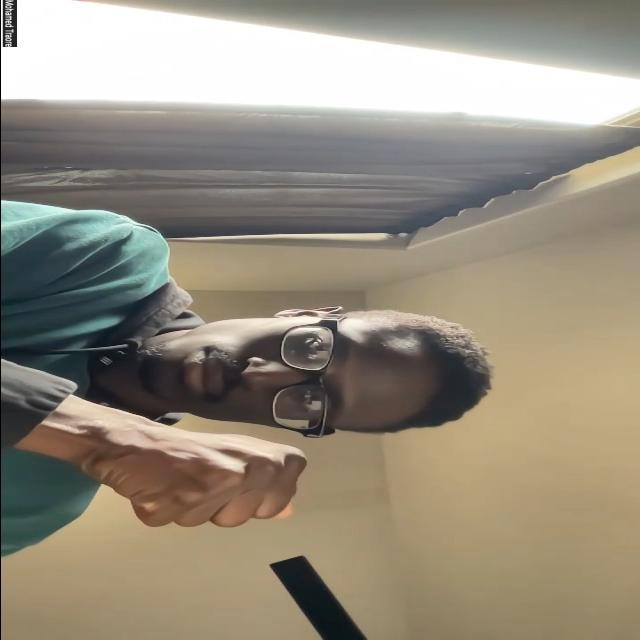Rock: (83, 430, 308, 529)
